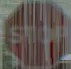Stop: (3, 4, 65, 54)
